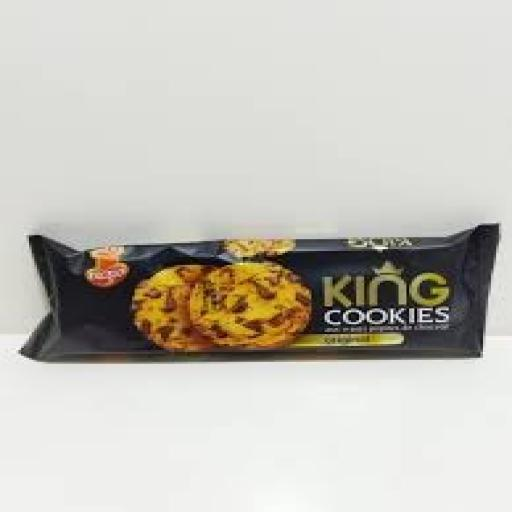king_cooking: (26, 204, 498, 408)
